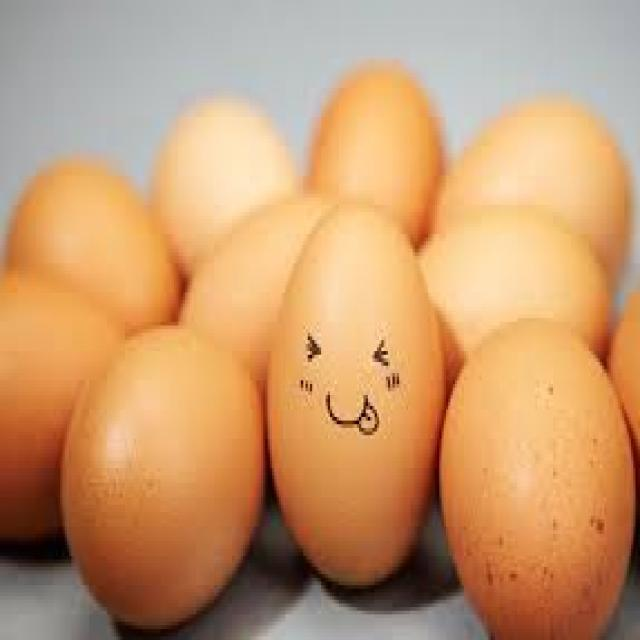Egg: (442, 322, 638, 640), (62, 325, 265, 629)
